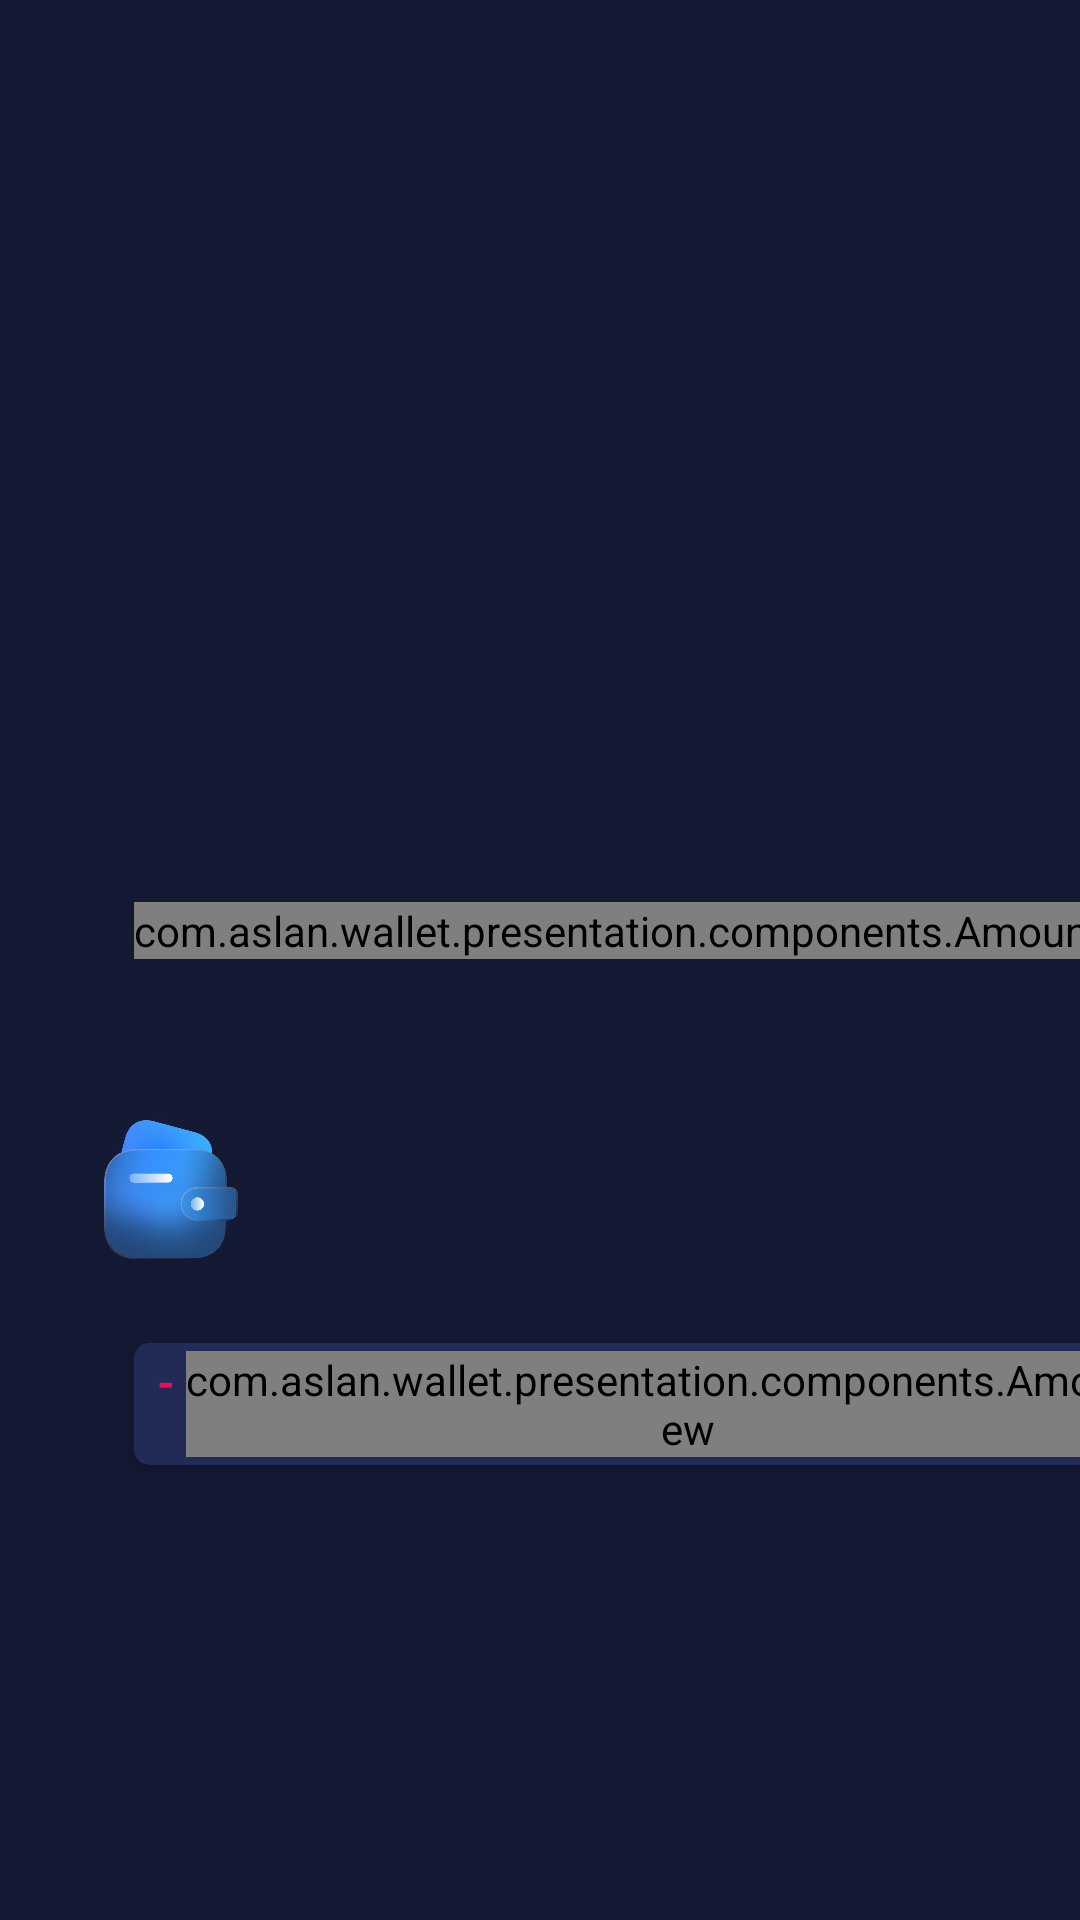

Named icons in this screenshot (1080w x 1920h) and their centers, point (x, y):
wallet balance: point (171, 1189)
